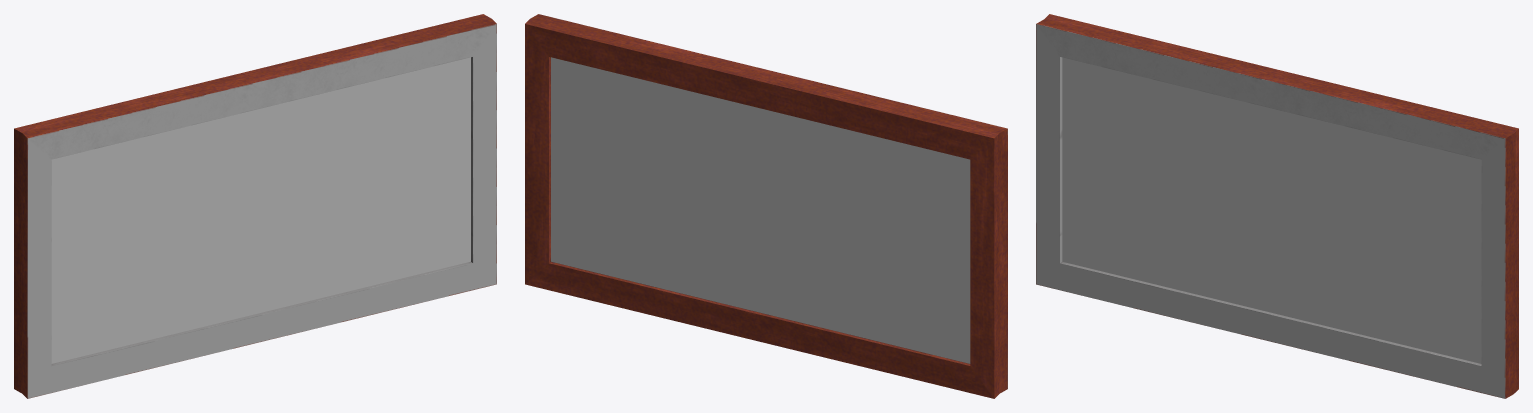
The model's file is SM_Kitchen_Window.fbx.
3 views of the same model, side by side, from view 1: azimuth 30°, elevation 25°; view 2: azimuth 150°, elevation 25°; view 3: azimuth 330°, elevation 25° (orthographic).
Visible parts, largest first — view 1: SM_Kitchen_Window; view 2: SM_Kitchen_Window; view 3: SM_Kitchen_Window.
Boxes of the visible parts, left/top/right/bottom form: SM_Kitchen_Window: left=14, top=14, right=496, bottom=398; SM_Kitchen_Window: left=525, top=14, right=1007, bottom=398; SM_Kitchen_Window: left=1036, top=14, right=1518, bottom=398.
Size of the model in its own units: 152 by 7.59 by 80.26.
2 materials, 1 textured.
